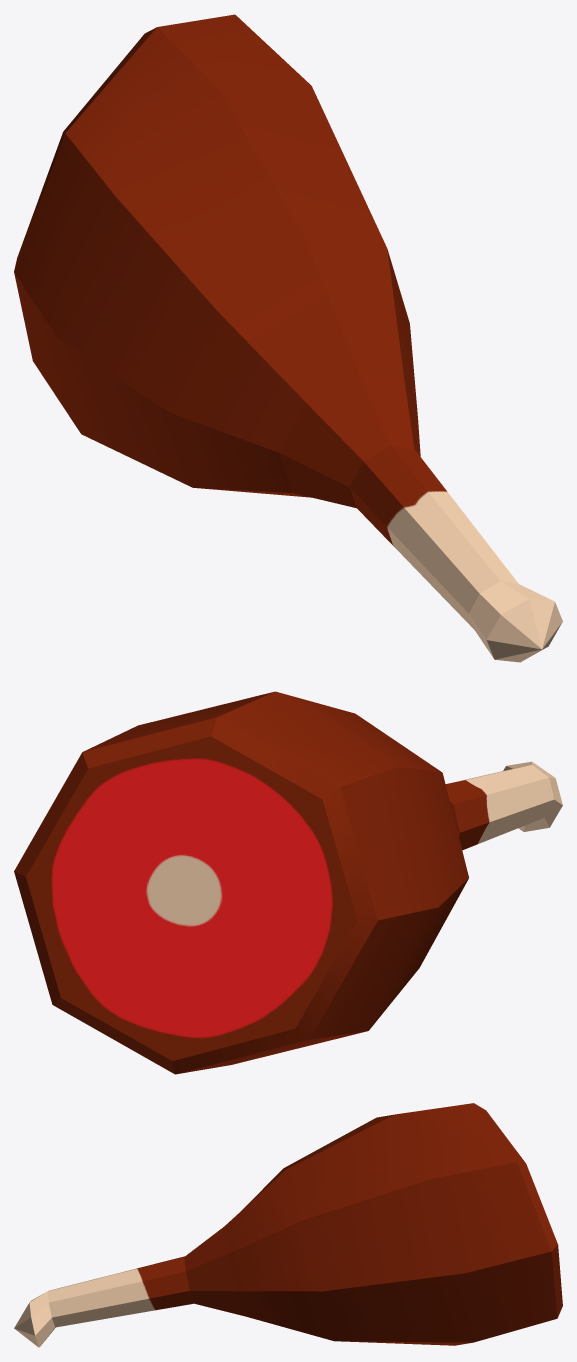
The model's file is Ham_Mesh.fbx.
The picture shows the model from 3 angles, top to bottom: view 1: azimuth 30°, elevation 25°; view 2: azimuth 150°, elevation 25°; view 3: azimuth 270°, elevation 25°; orthographic projection. The views are drawn at different scales.
Visible parts, largest first — view 1: Leg_Mesh; view 2: Leg_Mesh; view 3: Leg_Mesh.
Boxes of the visible parts, left/top/right/bottom form: Leg_Mesh: left=14, top=14, right=562, bottom=662; Leg_Mesh: left=14, top=691, right=562, bottom=1074; Leg_Mesh: left=14, top=1103, right=562, bottom=1347.
Size of the model in its own units: 3.67 by 4.02 by 8.24.
